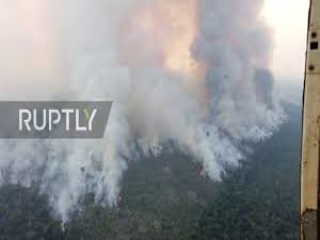smoke: (137, 8, 290, 177), (18, 67, 131, 212)
